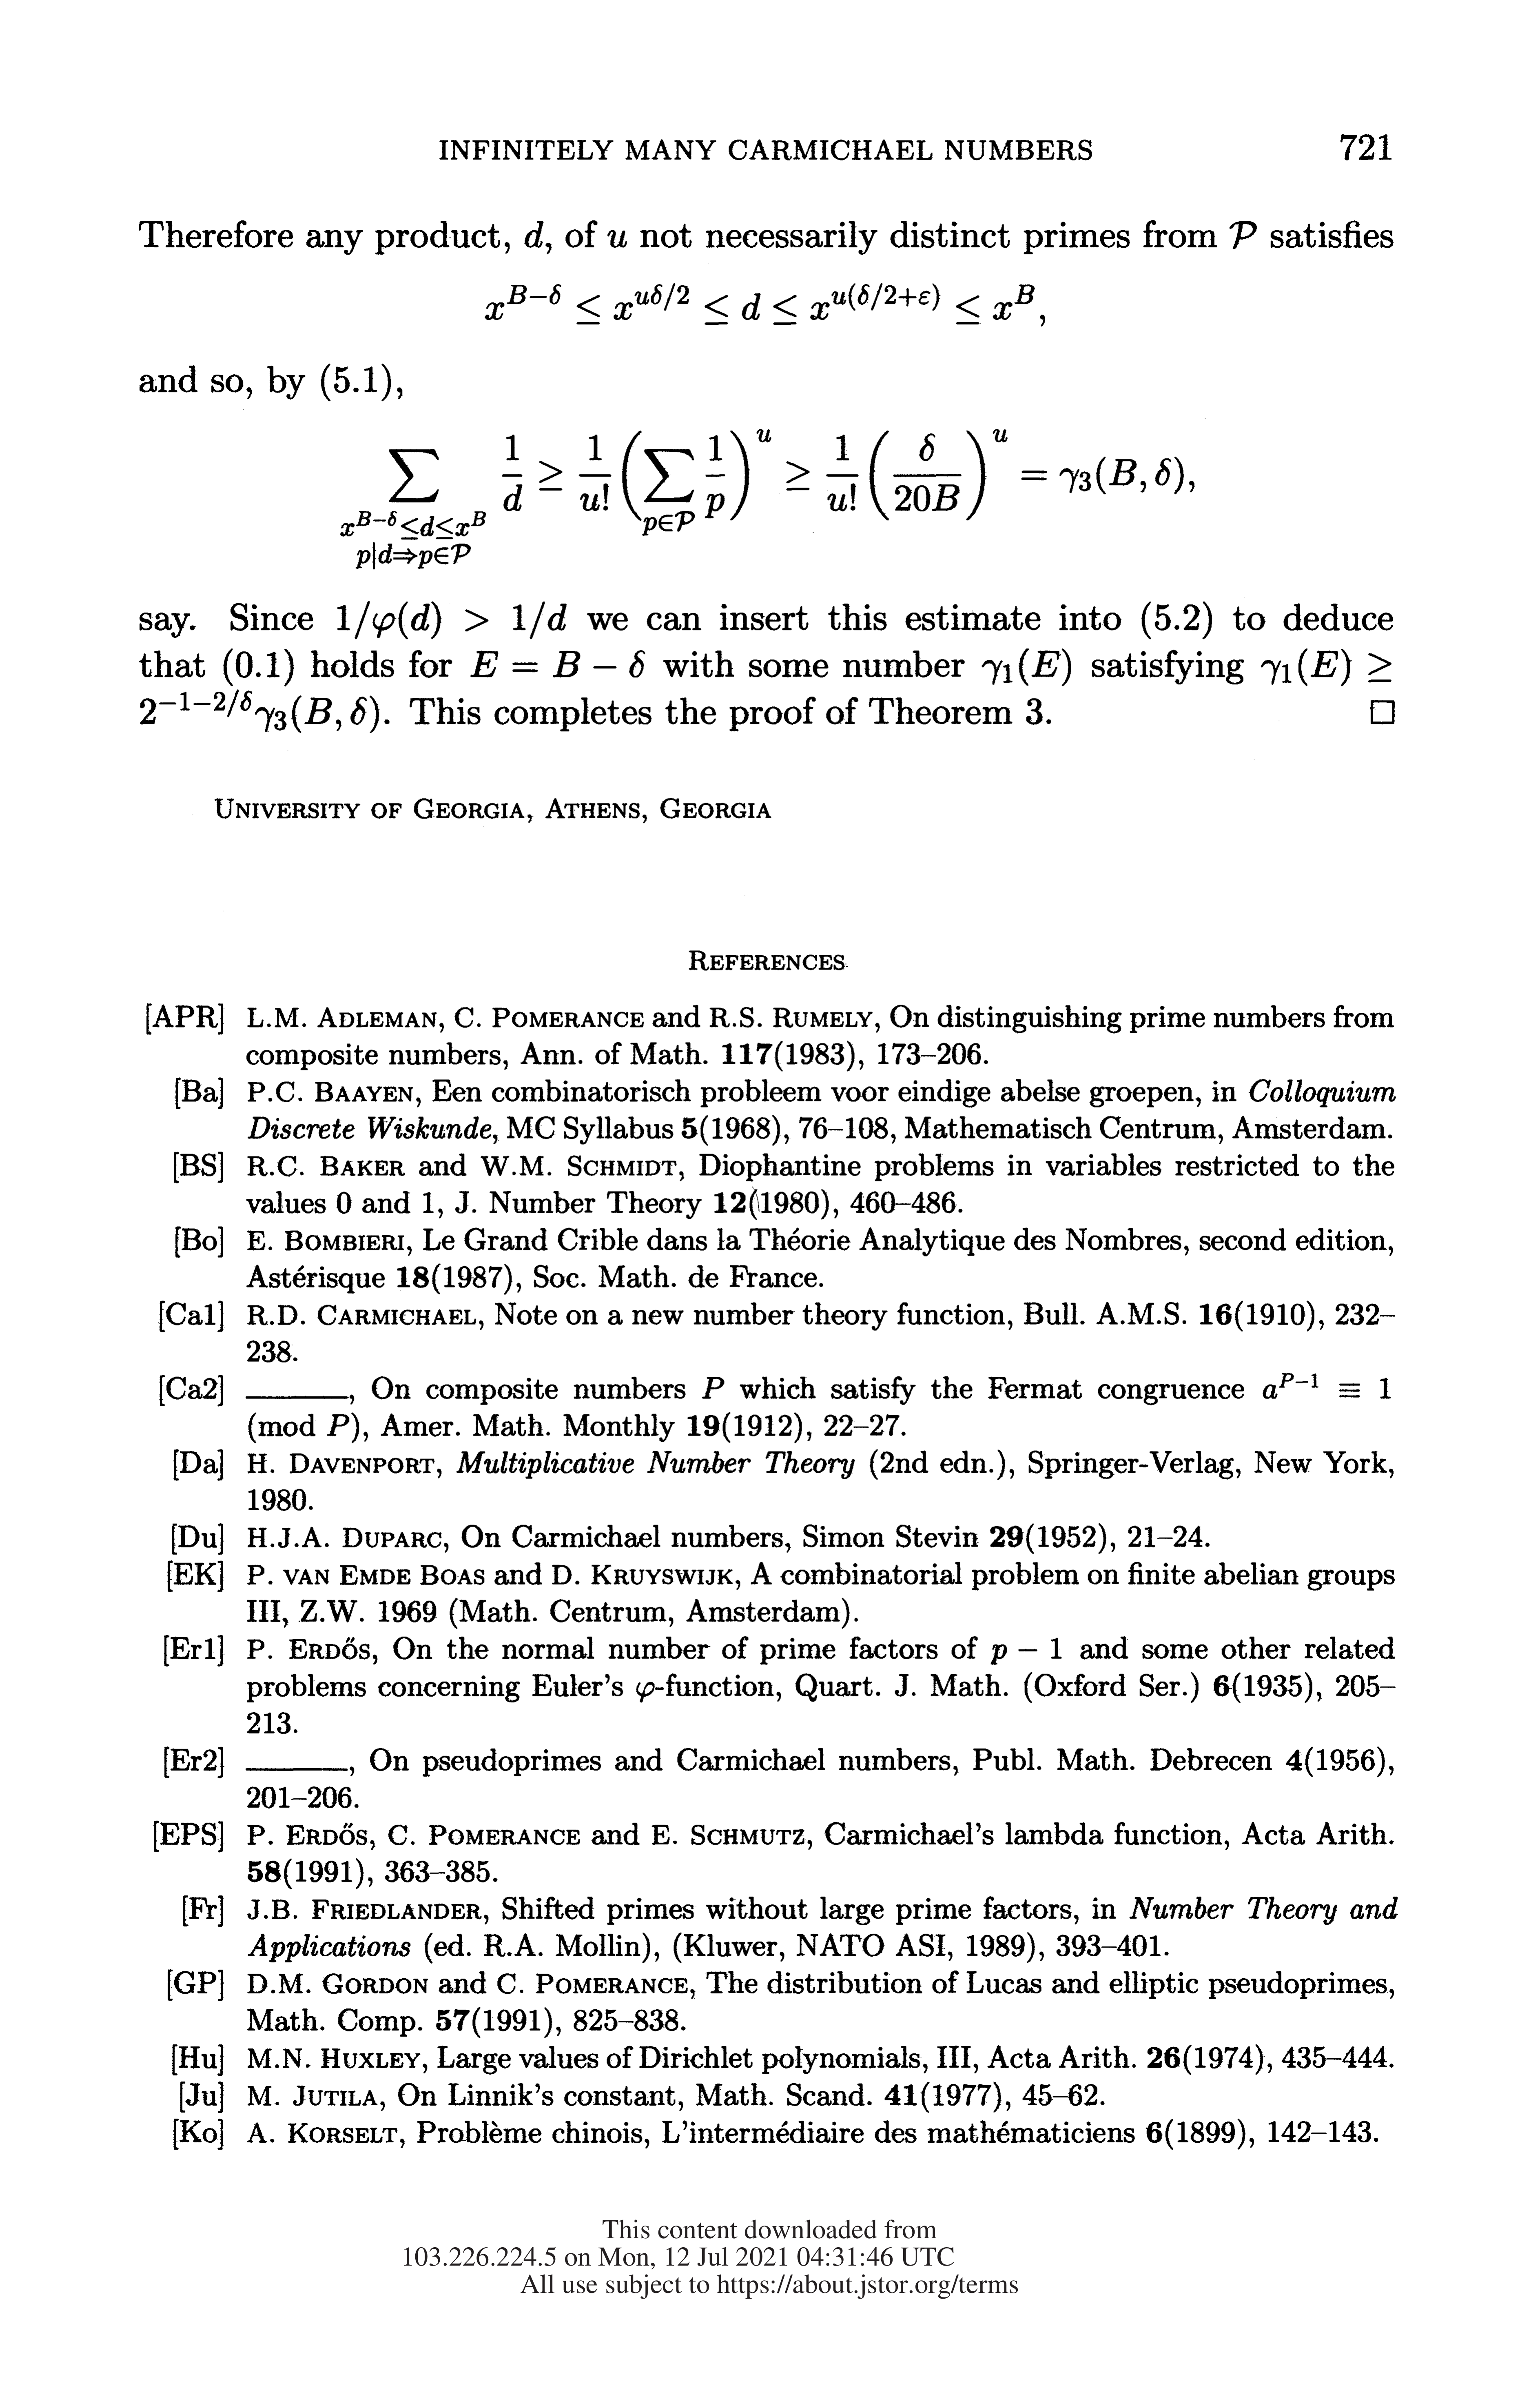maths: (340, 428, 1184, 537), (484, 283, 1035, 325), (140, 648, 379, 732), (337, 600, 567, 639), (1261, 648, 1391, 686), (470, 649, 644, 677), (356, 537, 470, 569), (982, 648, 1072, 686), (1263, 1372, 1391, 1399), (991, 1638, 1061, 1664), (1230, 221, 1256, 249), (1370, 700, 1394, 723), (524, 221, 544, 247), (637, 1681, 654, 1702), (607, 230, 626, 247)
